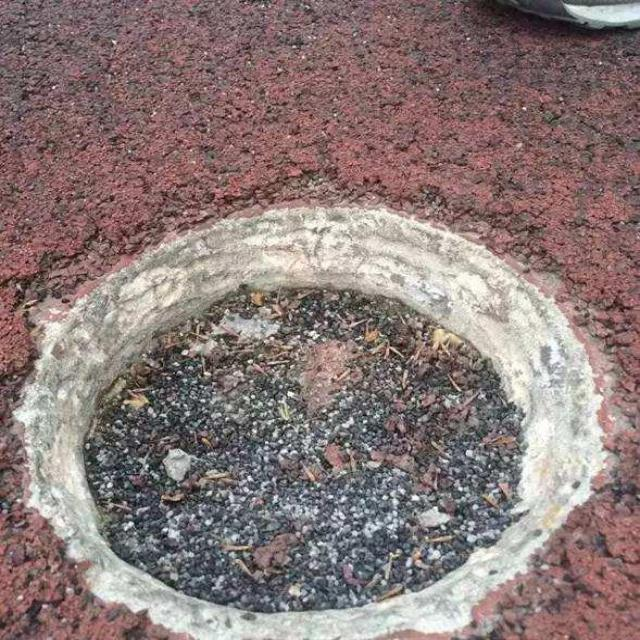Pothole: (8, 171, 624, 639)
